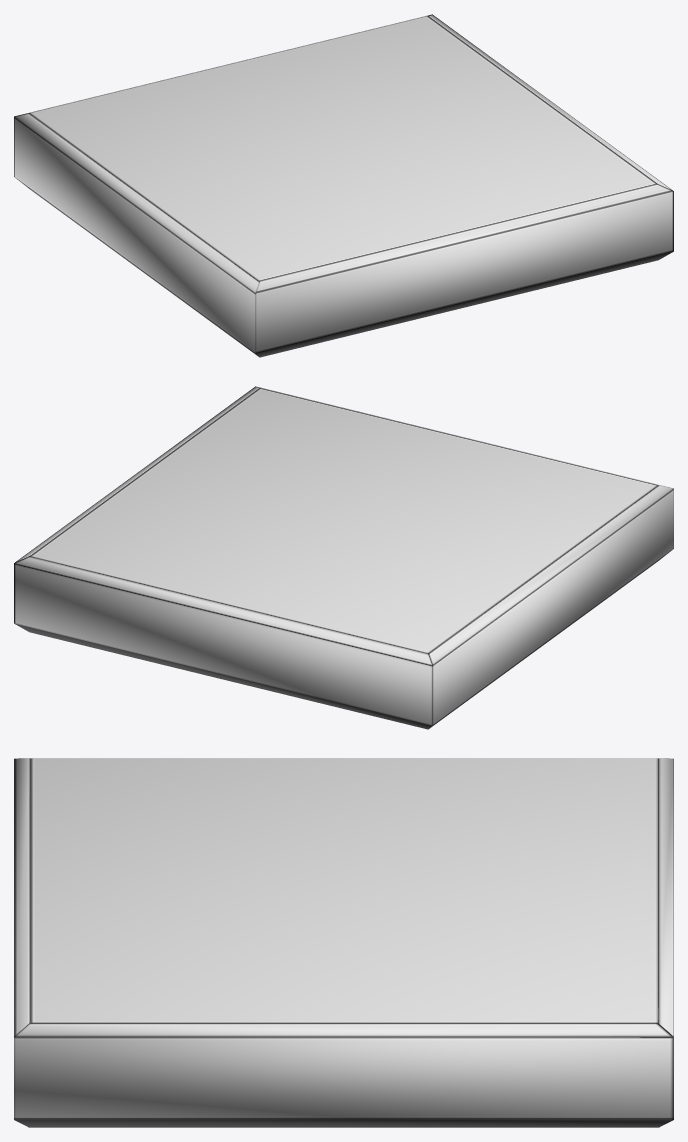
Rendered from PlataformaCuadrada.fbx.
3 renders of one model, top to bottom at view 1: azimuth 30°, elevation 25°; view 2: azimuth 150°, elevation 25°; view 3: azimuth 270°, elevation 25°, orthographic. The views are drawn at different scales.
Visible parts, largest first — view 1: Plane; view 2: Plane; view 3: Plane.
Boxes of the visible parts, x1=… form: Plane: x1=14, y1=14, x2=673, y2=357; Plane: x1=14, y1=386, x2=673, y2=729; Plane: x1=14, y1=758, x2=673, y2=1127.
Size of the model in its own units: 210 by 36.53 by 210.
3 materials, 3 textured.
